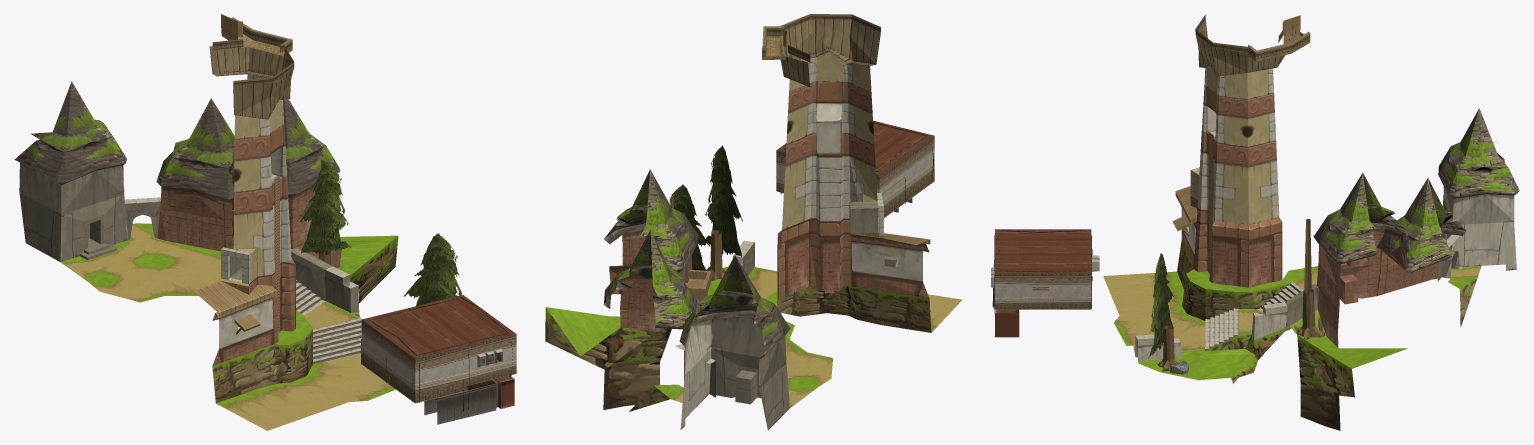
File: Coffee Shop.obj
3 views of the same model, side by side, from view 1: azimuth 30°, elevation 25°; view 2: azimuth 150°, elevation 25°; view 3: azimuth 270°, elevation 25° (orthographic). The views are drawn at different scales.
Visible parts, largest first — view 1: mesh-4.001_meshId4_name.001, mesh-9.001_meshId9_name.001, mesh-5.001_meshId5_name.001, mesh-2.001_meshId2_name.001, mesh-12_meshId12_name, mesh-3.001_meshId3_name.001, mesh-1.001_meshId1_name.001, mesh-6_meshId6_name, mesh-10.001_meshId10_name.001, mesh-6.001_meshId6_name.001, mesh-7.001_meshId7_name.001, mesh-8.001_meshId8_name.001 (+5 smaller); view 2: mesh-2.001_meshId2_name.001, mesh-4.001_meshId4_name.001, mesh-5.001_meshId5_name.001, mesh-1.001_meshId1_name.001, mesh-3.001_meshId3_name.001, mesh-6.001_meshId6_name.001, mesh-10.001_meshId10_name.001, mesh-9.001_meshId9_name.001, mesh-12_meshId12_name, mesh-8.001_meshId8_name.001, mesh-6_meshId6_name, mesh-0.001_meshId0_name.002 (+1 smaller); view 3: mesh-5.001_meshId5_name.001, mesh-2.001_meshId2_name.001, mesh-1.001_meshId1_name.001, mesh-3.001_meshId3_name.001, mesh-4.001_meshId4_name.001, mesh-9.001_meshId9_name.001, mesh-8.001_meshId8_name.001, mesh-6_meshId6_name, mesh-12_meshId12_name, mesh-7.001_meshId7_name.001, mesh-6.001_meshId6_name.001, mesh-10.001_meshId10_name.001 (+4 smaller).
Part boxes in pixels (box(x1,y1,x2,y2)): mesh-4.001_meshId4_name.001: box(19, 163, 362, 364); mesh-9.001_meshId9_name.001: box(61, 223, 395, 430); mesh-5.001_meshId5_name.001: box(14, 81, 340, 200); mesh-2.001_meshId2_name.001: box(221, 74, 291, 284); mesh-12_meshId12_name: box(361, 320, 516, 403); mesh-3.001_meshId3_name.001: box(157, 124, 341, 365); mesh-1.001_meshId1_name.001: box(212, 159, 398, 403); mesh-6_meshId6_name: box(362, 295, 515, 358); mesh-10.001_meshId10_name.001: box(299, 161, 461, 305); mesh-6.001_meshId6_name.001: box(209, 17, 294, 119); mesh-7.001_meshId7_name.001: box(166, 190, 335, 266); mesh-8.001_meshId8_name.001: box(61, 223, 397, 344); mesh-2.001_meshId2_name.001: box(781, 51, 883, 242); mesh-4.001_meshId4_name.001: box(675, 201, 922, 430); mesh-5.001_meshId5_name.001: box(603, 169, 790, 358); mesh-1.001_meshId1_name.001: box(545, 193, 931, 411); mesh-3.001_meshId3_name.001: box(609, 81, 929, 327); mesh-6.001_meshId6_name.001: box(762, 14, 880, 86); mesh-10.001_meshId10_name.001: box(669, 145, 742, 270); mesh-9.001_meshId9_name.001: box(671, 267, 962, 407); mesh-12_meshId12_name: box(776, 136, 934, 217); mesh-8.001_meshId8_name.001: box(546, 266, 818, 398); mesh-6_meshId6_name: box(776, 120, 933, 175); mesh-0.001_meshId0_name.002: box(687, 30, 930, 298); mesh-5.001_meshId5_name.001: box(1313, 108, 1519, 273); mesh-2.001_meshId2_name.001: box(1190, 65, 1279, 224); mesh-1.001_meshId1_name.001: box(1157, 219, 1477, 430); mesh-3.001_meshId3_name.001: box(1181, 85, 1437, 347); mesh-4.001_meshId4_name.001: box(1135, 186, 1516, 361); mesh-9.001_meshId9_name.001: box(1103, 235, 1481, 355); mesh-8.001_meshId8_name.001: box(1138, 266, 1477, 380); mesh-6_meshId6_name: box(995, 229, 1092, 290); mesh-12_meshId12_name: box(991, 255, 1099, 309); mesh-7.001_meshId7_name.001: box(1317, 234, 1432, 345); mesh-6.001_meshId6_name.001: box(1195, 14, 1310, 76); mesh-10.001_meshId10_name.001: box(1148, 253, 1173, 358).
Bounding box in the file's own units: 3242 × 3977 × 5486.
Materials: 30 (30 with a texture image).
